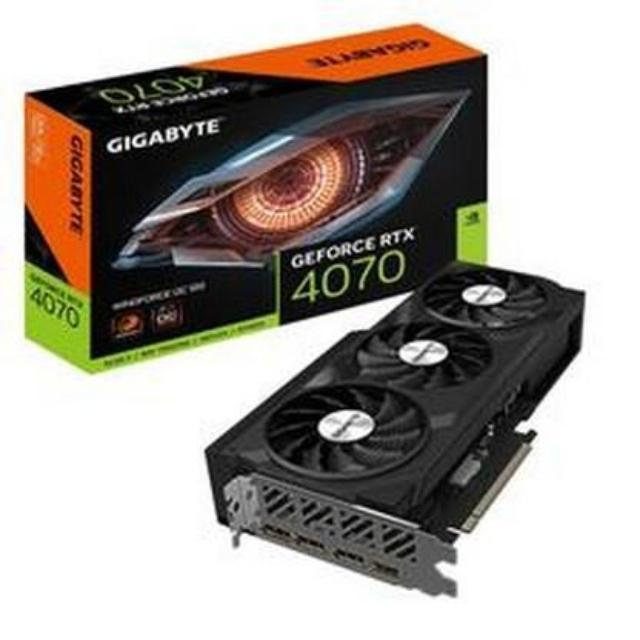GPU: (213, 244, 593, 608)
